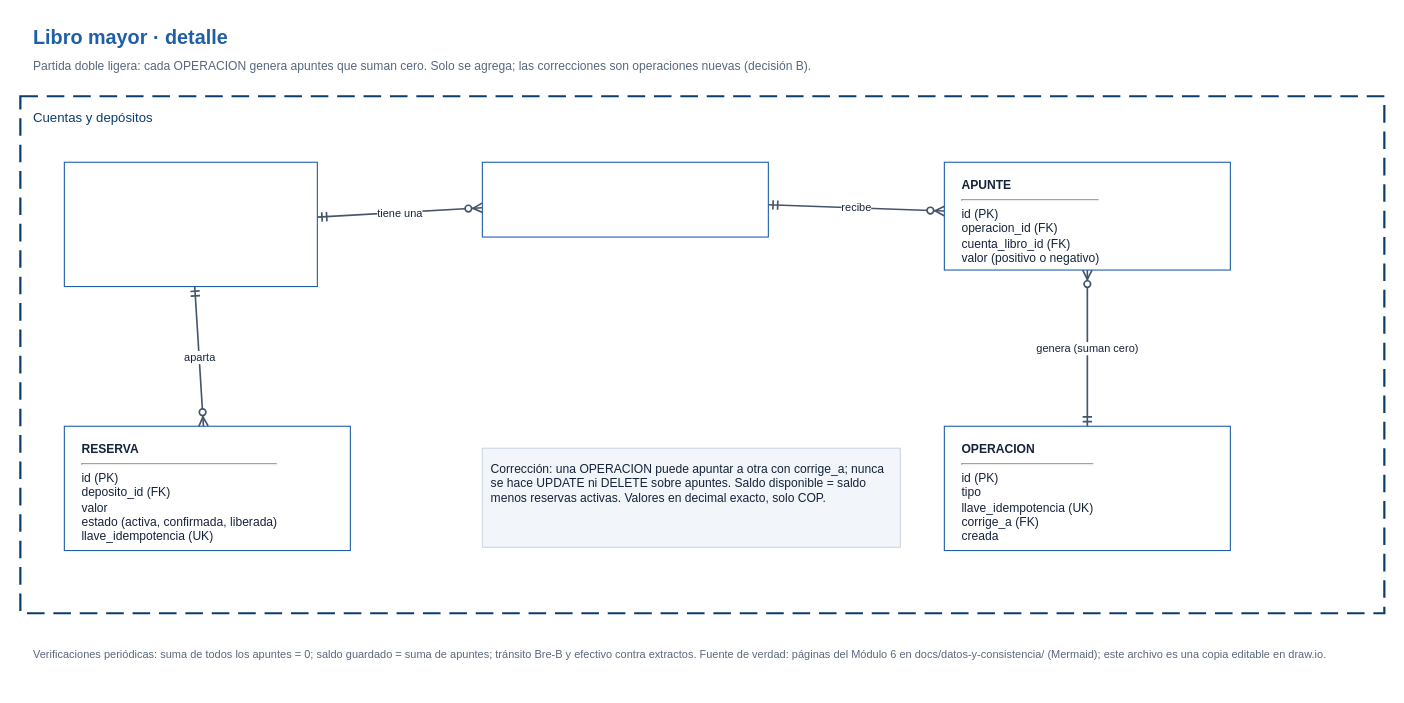
This 1404x703 diagram has some shape labels left out. Here are the shapes that lost their labels. From the top down, the box of each, then its label:
(481, 161, 768, 237): CUENTA_LIBRO id (PK) tipo (cliente, transito, liquidacion)
(63, 161, 317, 287): DEPOSITO id (PK) cliente_id estado saldo version (bloqueo de fila)
